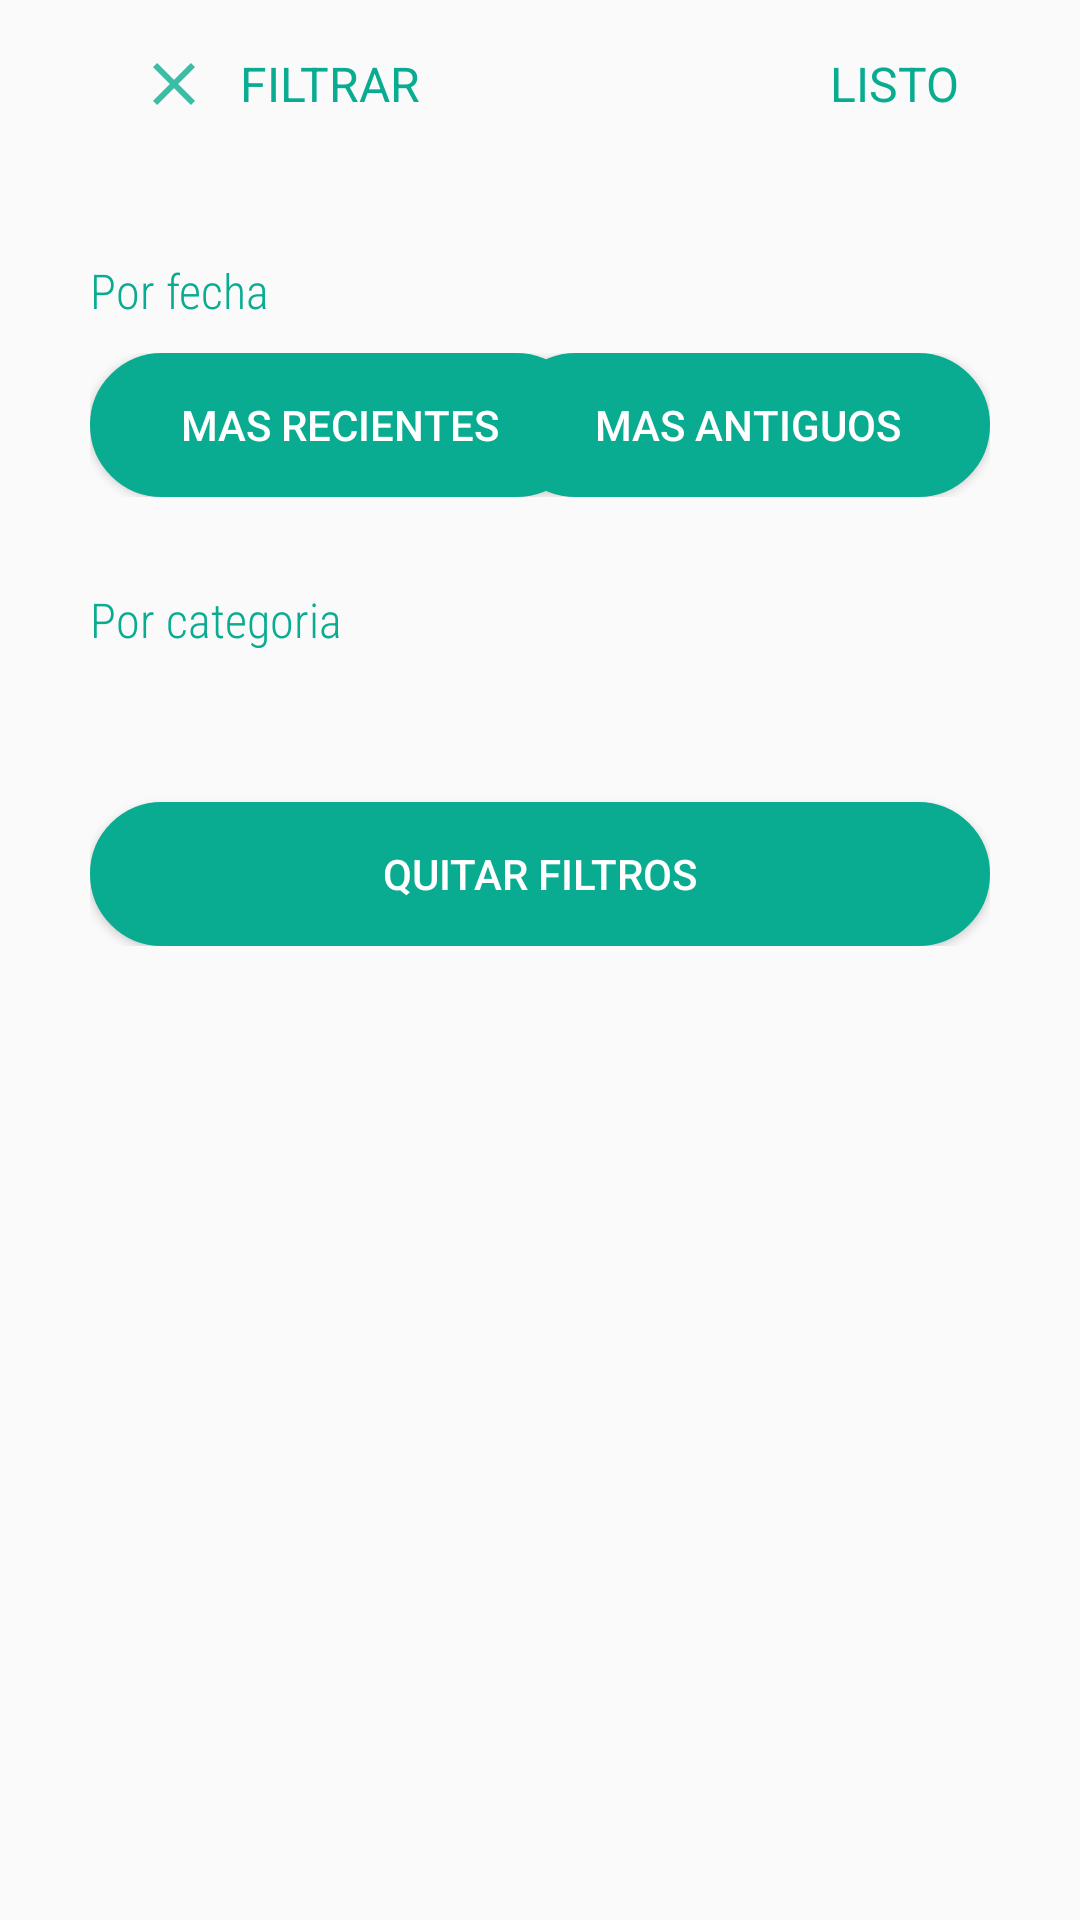

Point at icon controls on the screen. Image size 1080*1920, points as [x,y].
close: [174,84]
